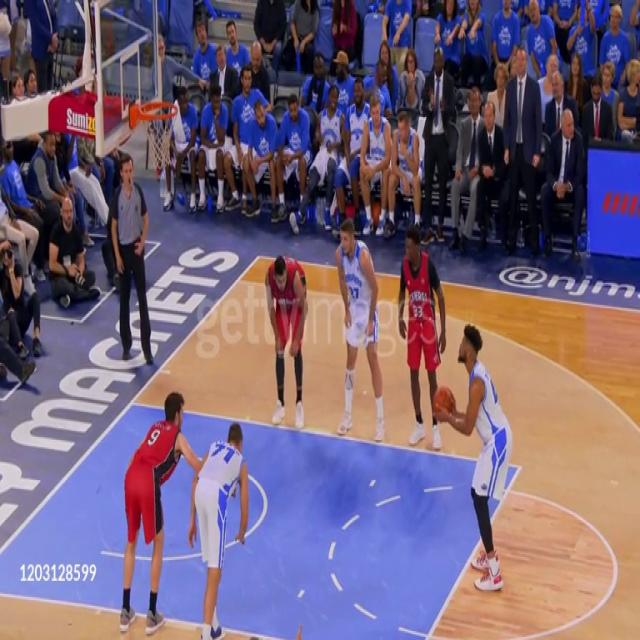ball: (433, 385, 455, 424)
